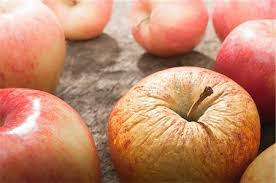apple: (4, 90, 99, 178), (216, 16, 276, 113), (3, 4, 76, 82), (132, 1, 211, 55)
damaged_apple: (103, 71, 256, 181)
